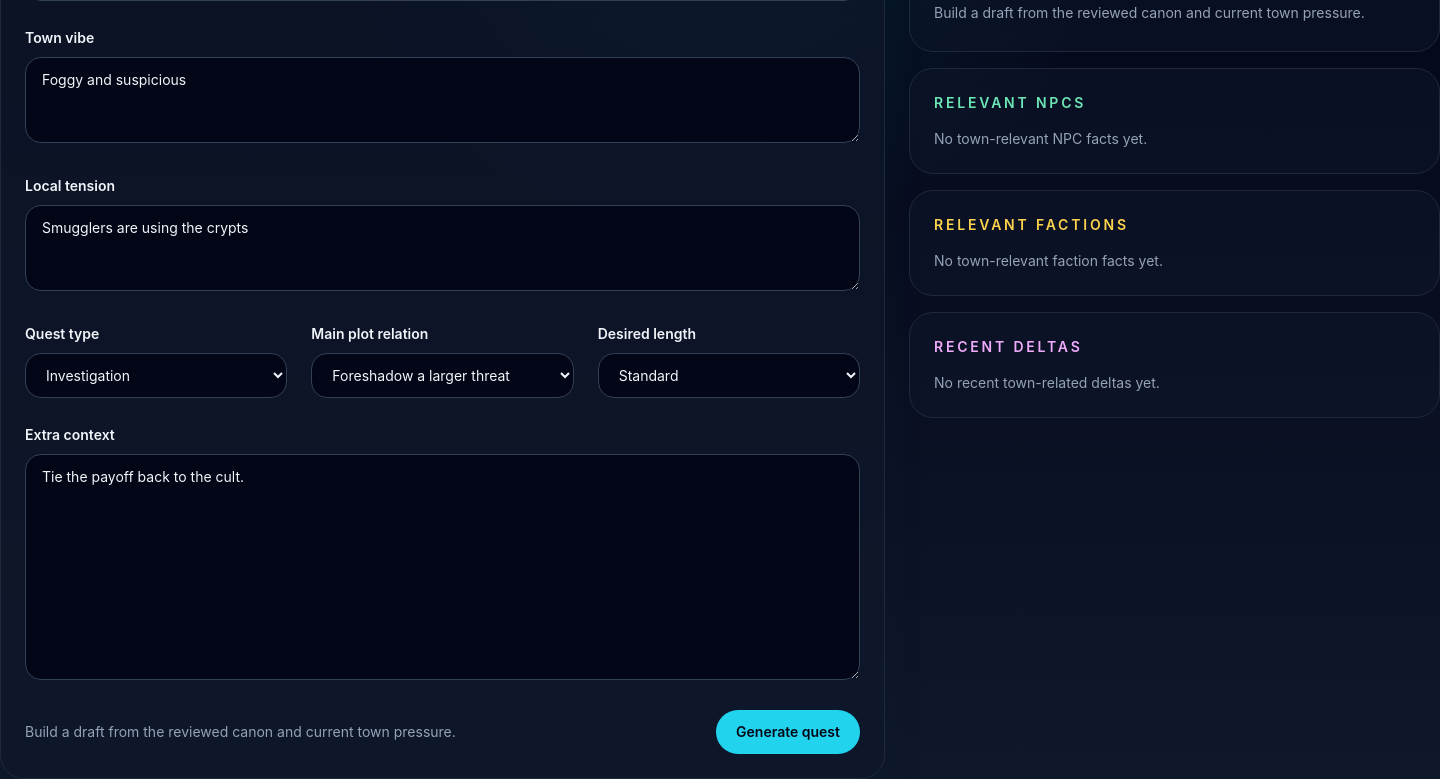
Test: QuestRequestForm generating state › transitions into generating state after async submission
(page scrolled)
Click the button "Generate quest" at (788, 732), box [716,710,860,754]
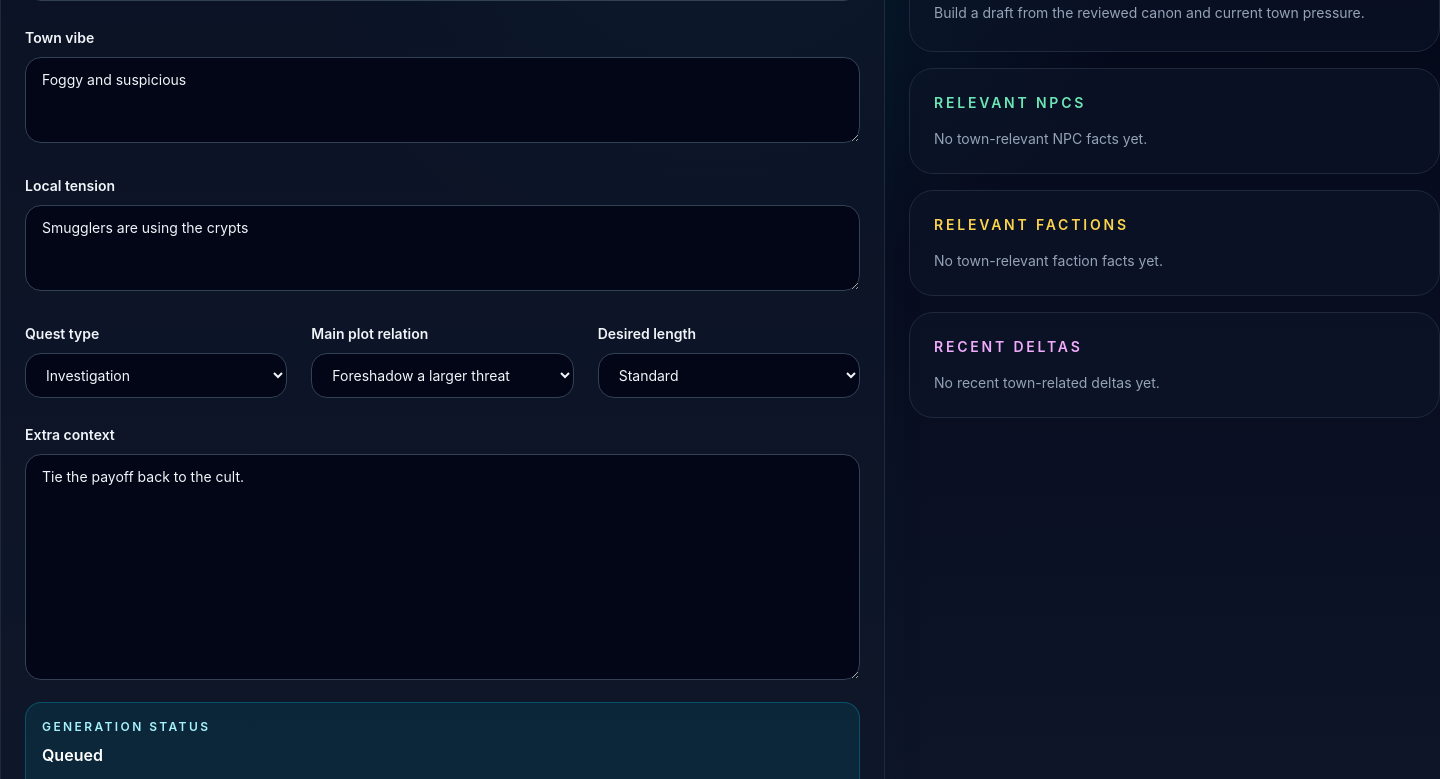
Now the text with test id "quest-generation-stage" reads "Queued", box [42,745,103,765]
